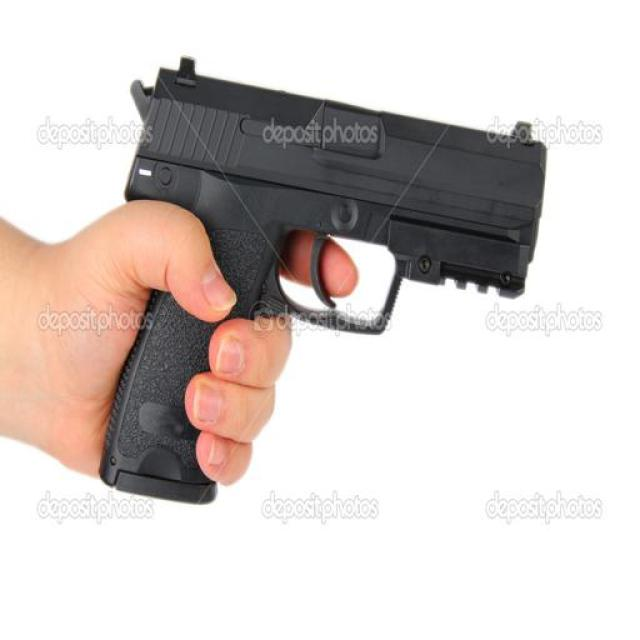pistol: (85, 57, 549, 497)
